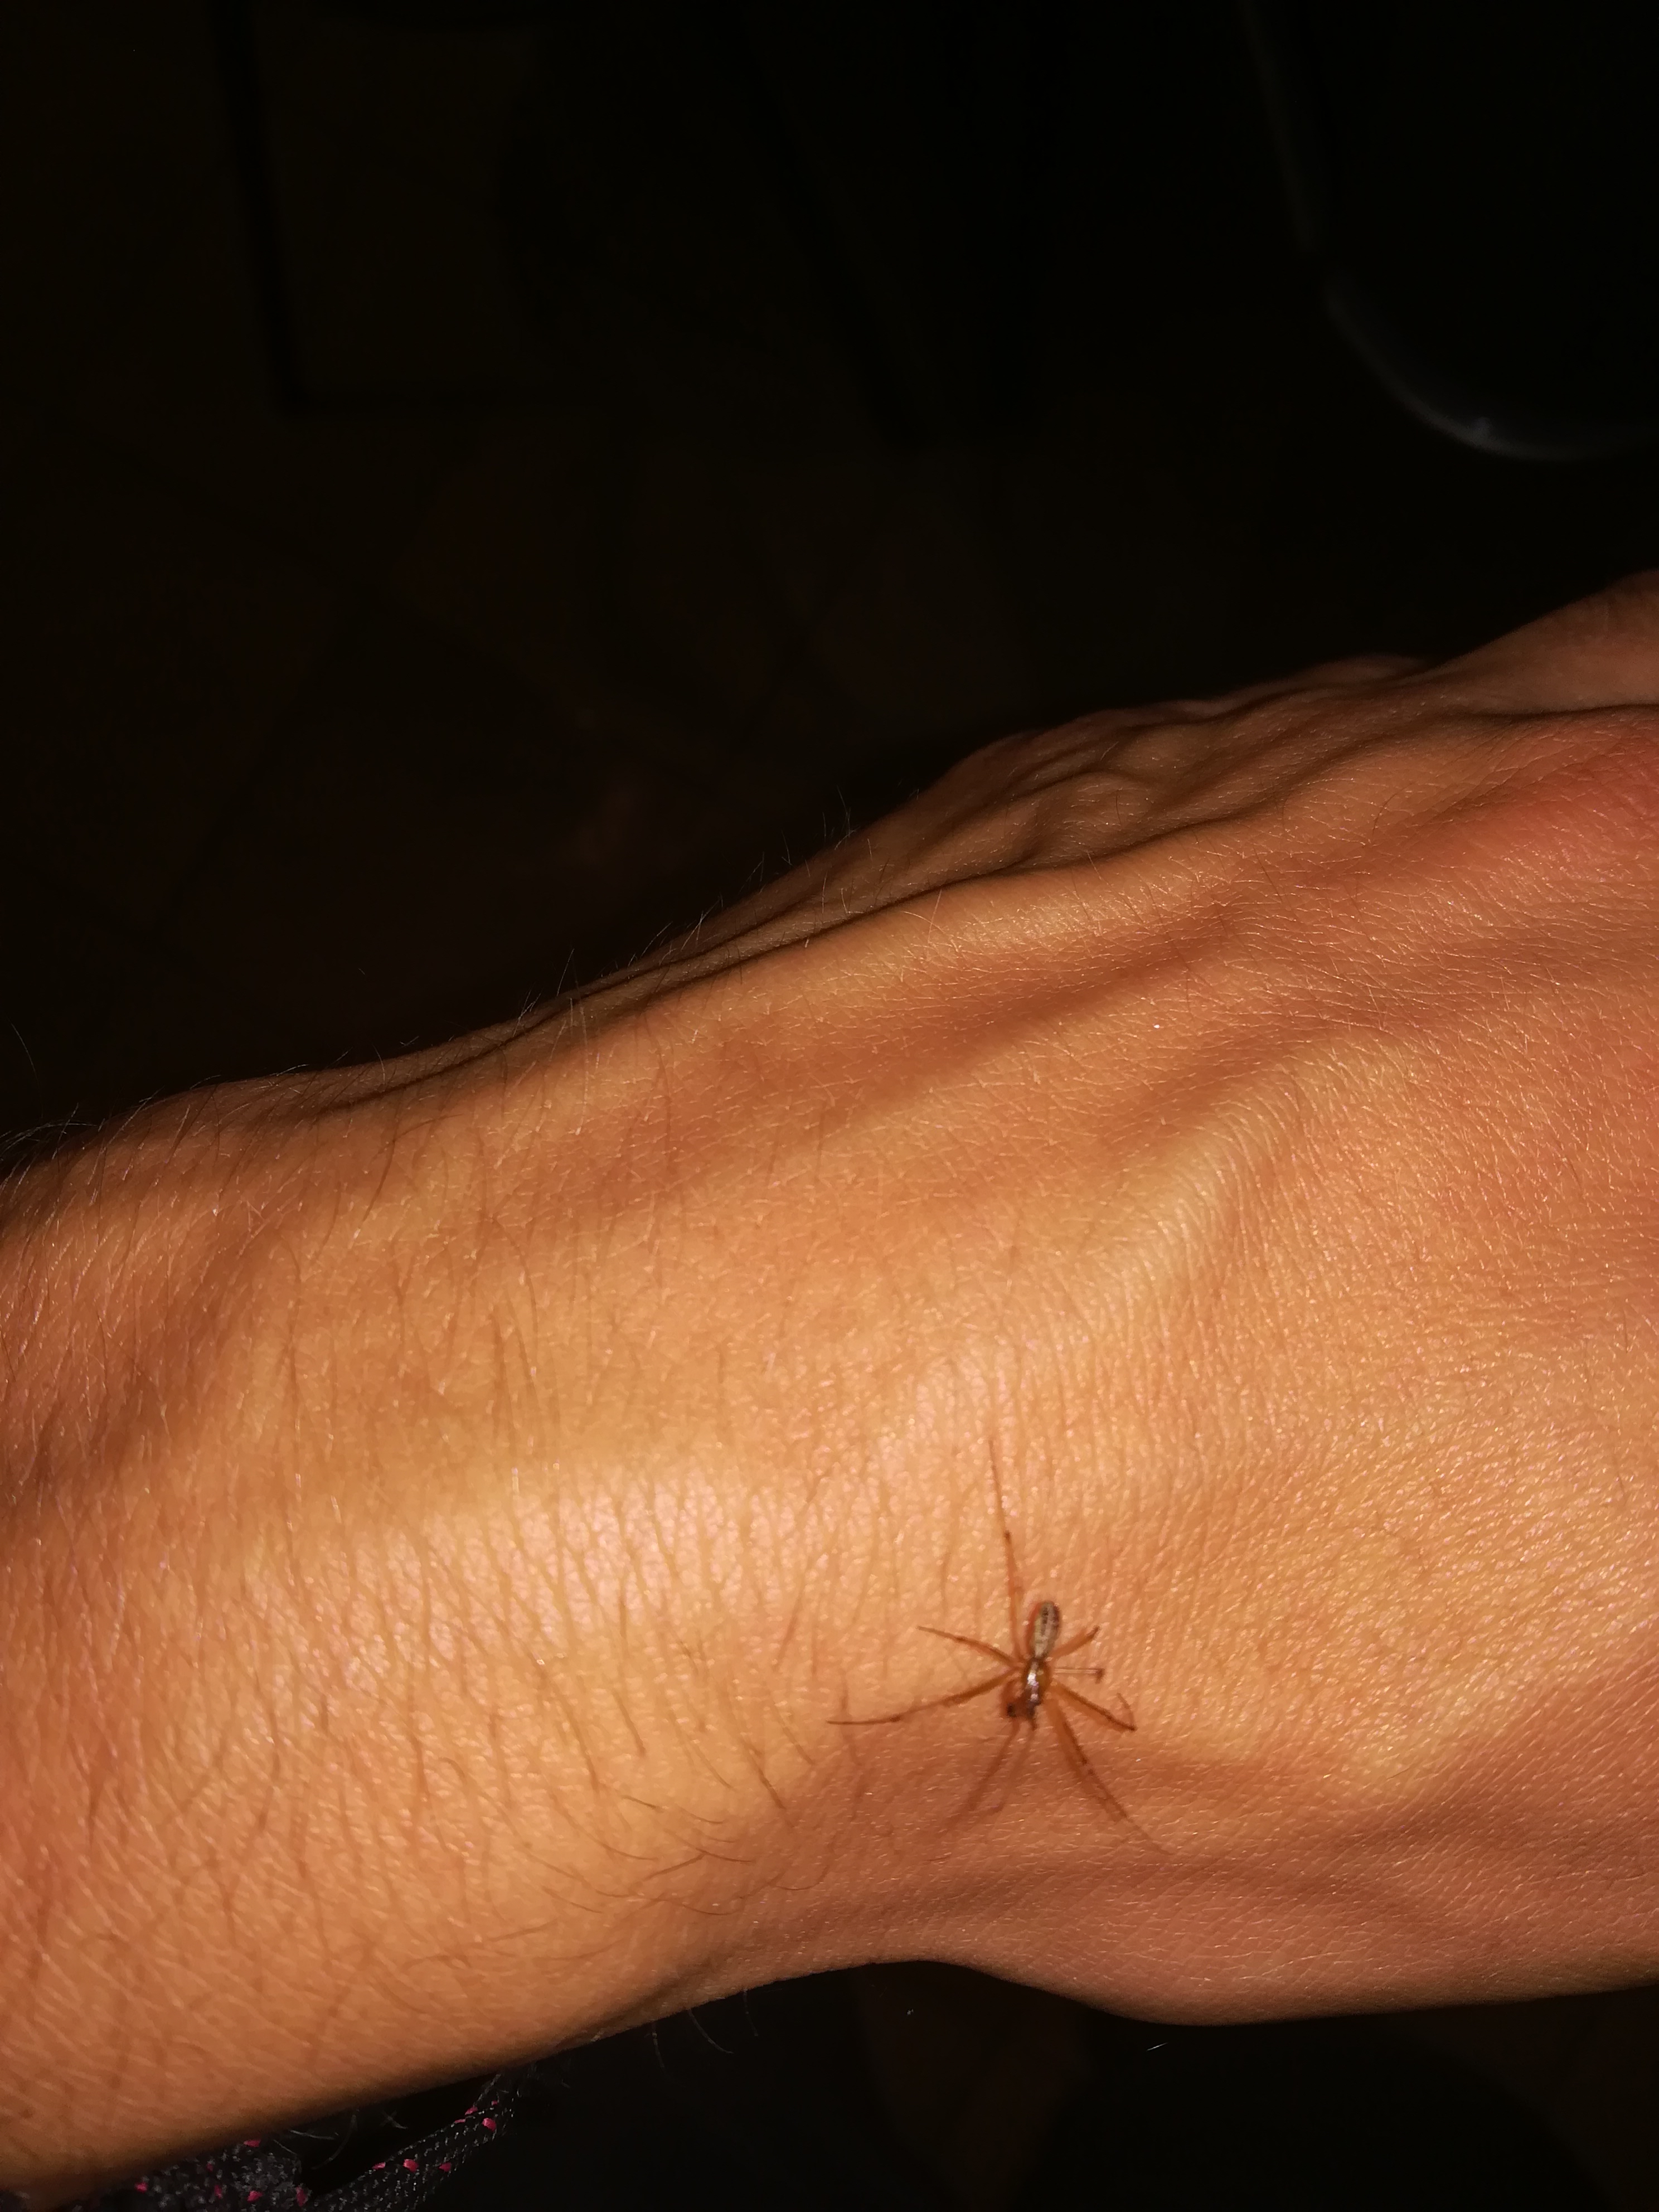spider: (828, 1463, 1218, 1876)
